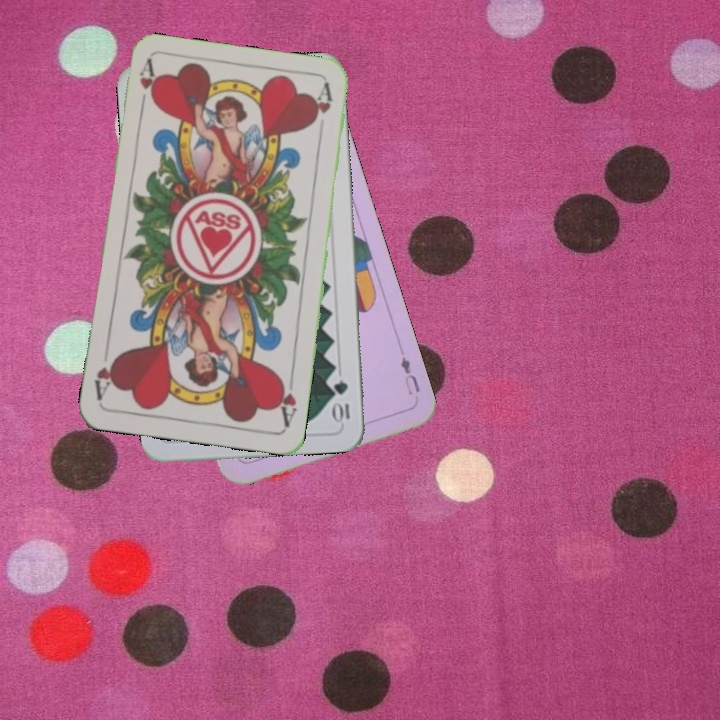EU: (396, 352, 423, 398)
G10: (330, 376, 352, 426)
HA: (273, 370, 300, 429), (135, 57, 158, 116)
